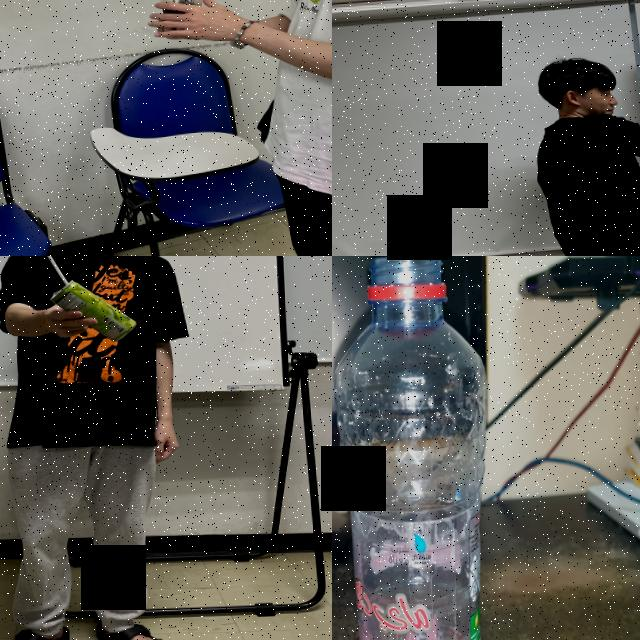bottle: (332, 256, 499, 640)
can: (47, 277, 138, 343)
cup: (148, 0, 211, 31)
